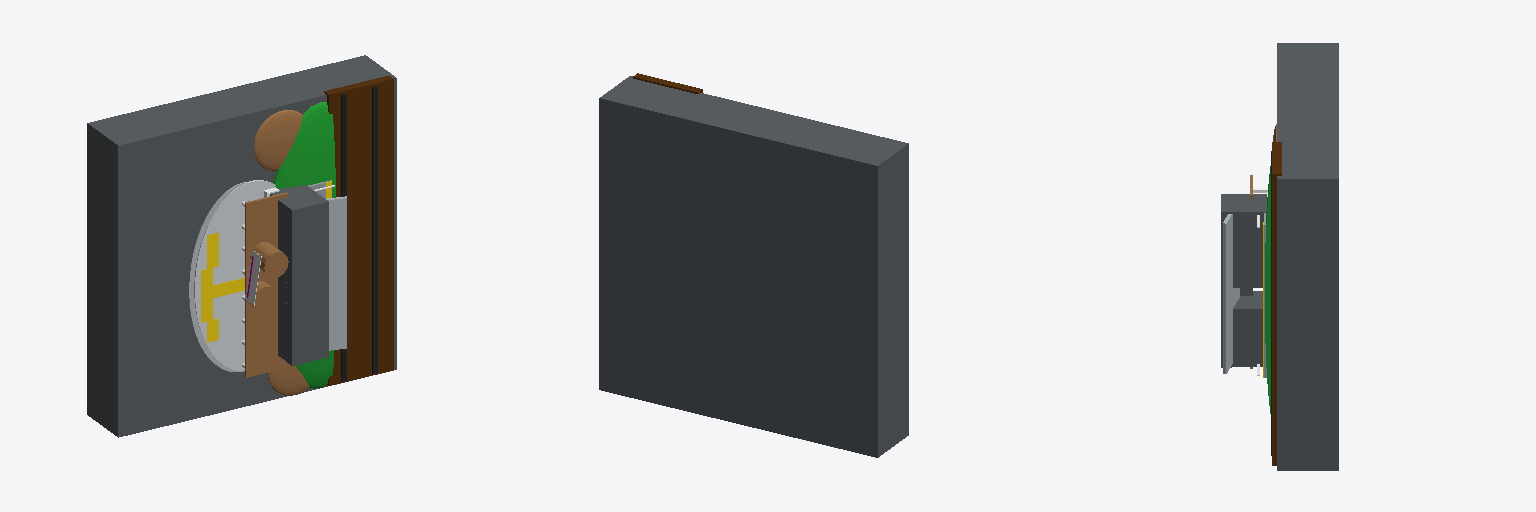
The model's file is tinker.obj.
The picture shows the model from 3 angles: view 1: azimuth 30°, elevation 25°; view 2: azimuth 150°, elevation 25°; view 3: azimuth 270°, elevation 25°; orthographic projection.
Parts seen in each view (by area): view 1: obj_0; view 2: obj_0; view 3: obj_0.
Part boxes in pixels (x1,y1,x2,y2): obj_0: (87, 55, 396, 437); obj_0: (599, 73, 908, 457); obj_0: (1221, 43, 1338, 470).
Bounding box in the file's own units: 503 × 508 × 184.